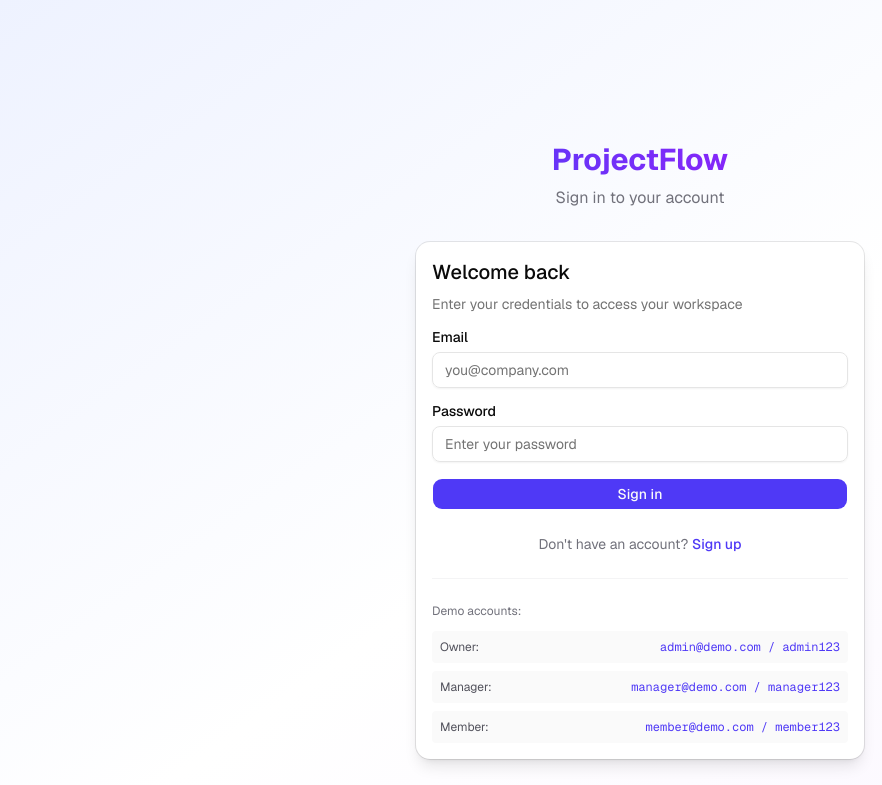
Test: LoginPage › disables inputs during loading
In the field labelled "Email": (640, 370) [432,352,848,388], type "a@b.com"
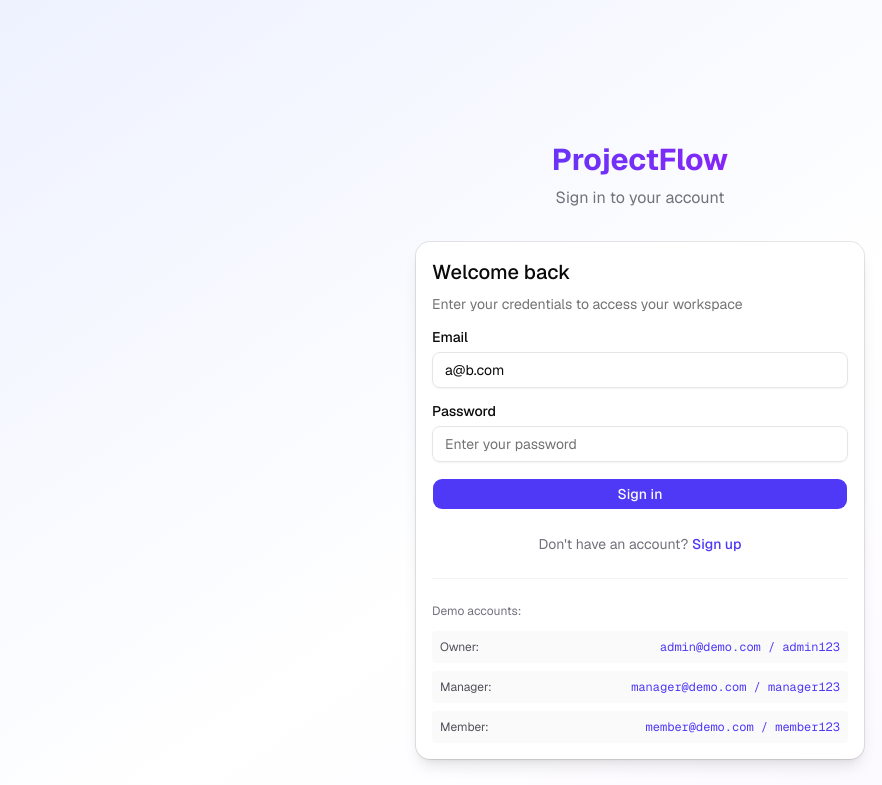
In the password field labelled "Password": (640, 444) [432,426,848,462], type "pass"
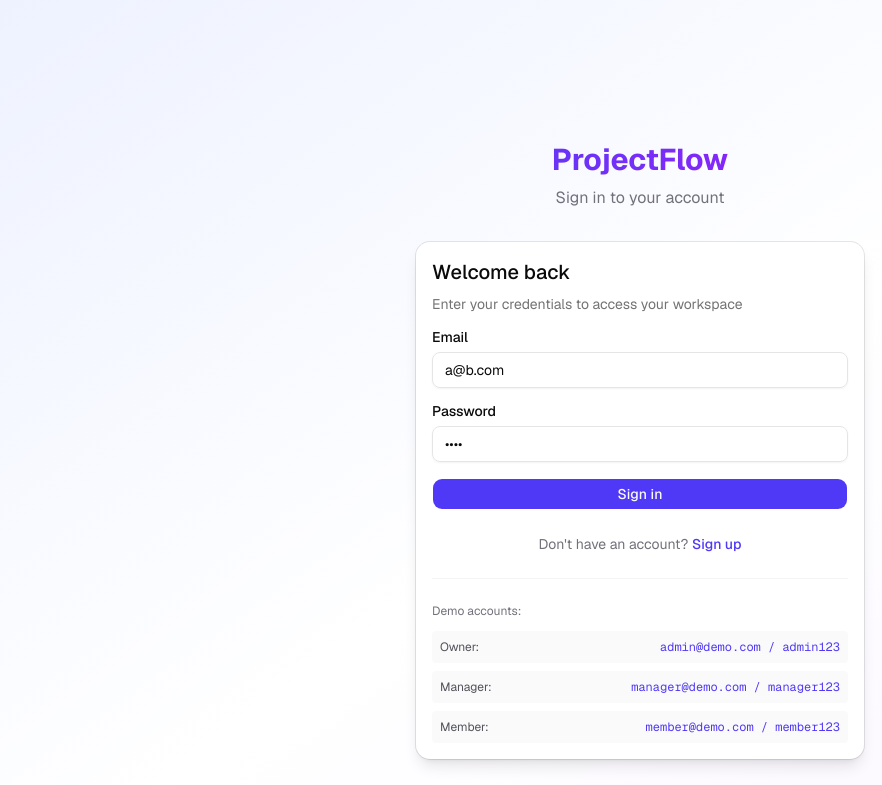
Click the button "Sign in": (640, 494) [432,478,848,510]
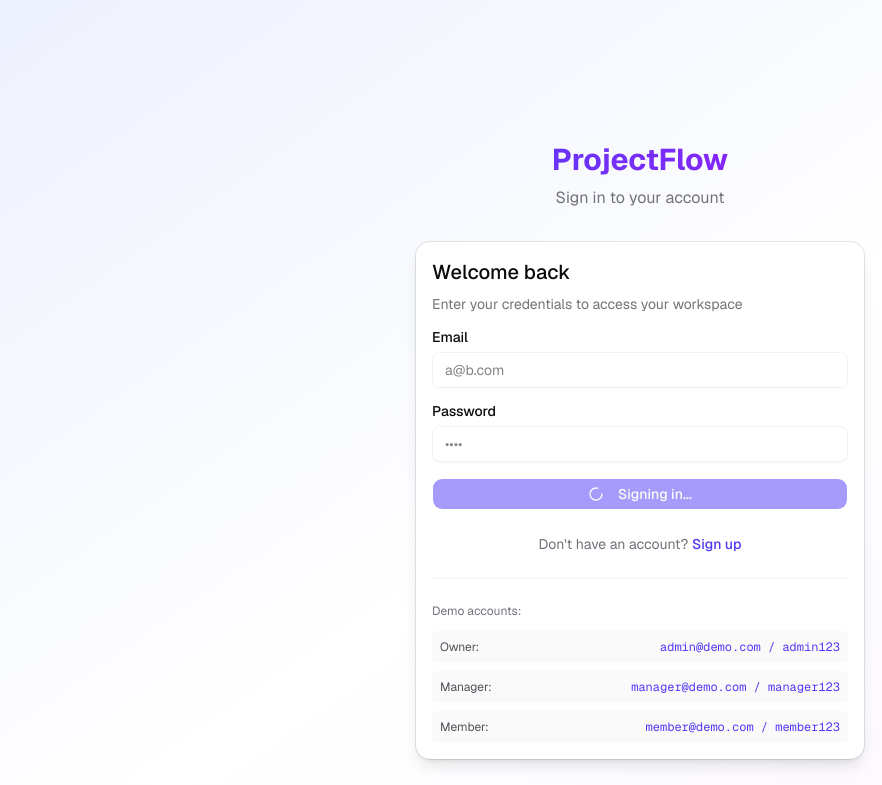
Result: the field labelled "Email" is disabled at [432,352,848,388]
Result: the password field labelled "Password" is disabled at [432,426,848,462]
